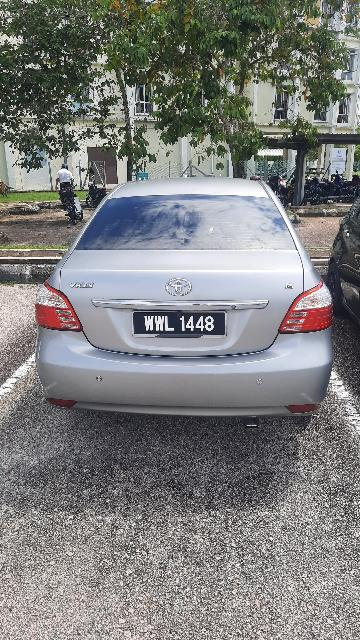License_Plate: (131, 304, 232, 342)
car: (17, 163, 343, 428)
